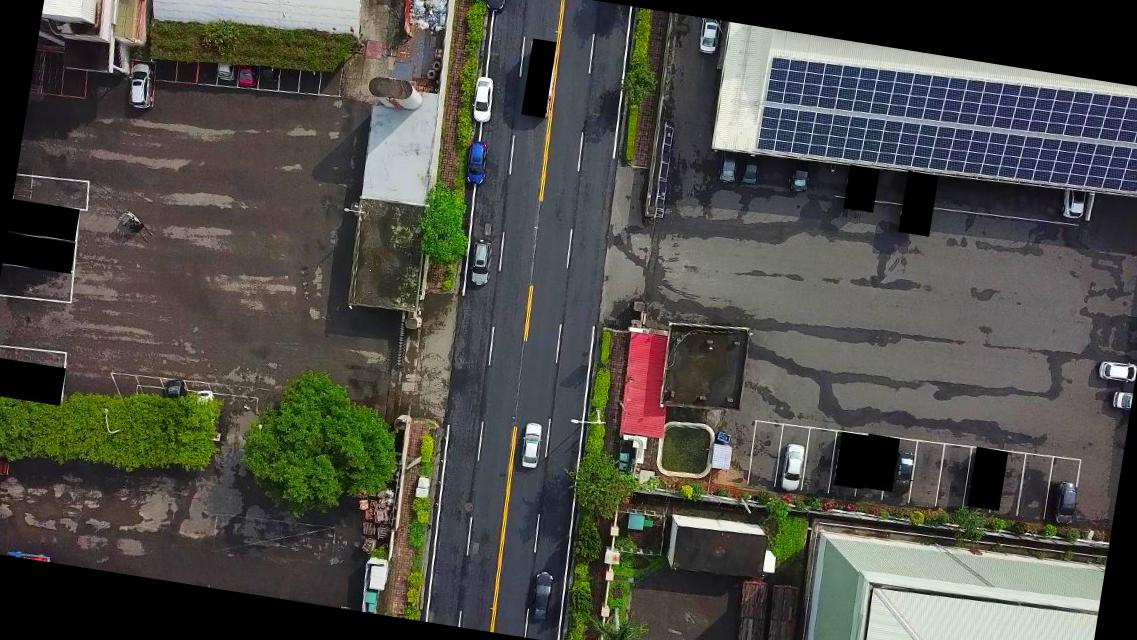vehicle: (123, 59, 156, 110), (467, 74, 498, 124), (778, 440, 807, 492), (466, 237, 494, 289), (516, 421, 544, 471), (888, 450, 916, 498), (461, 139, 489, 187), (528, 570, 554, 621), (1052, 481, 1078, 526), (1096, 357, 1136, 386), (786, 157, 813, 195), (696, 17, 721, 58), (1060, 189, 1088, 221), (738, 152, 763, 187), (718, 147, 740, 185), (192, 386, 216, 418), (162, 377, 189, 405), (1109, 388, 1132, 411), (257, 62, 278, 86), (237, 64, 259, 86), (484, 0, 510, 15), (216, 62, 236, 81)
